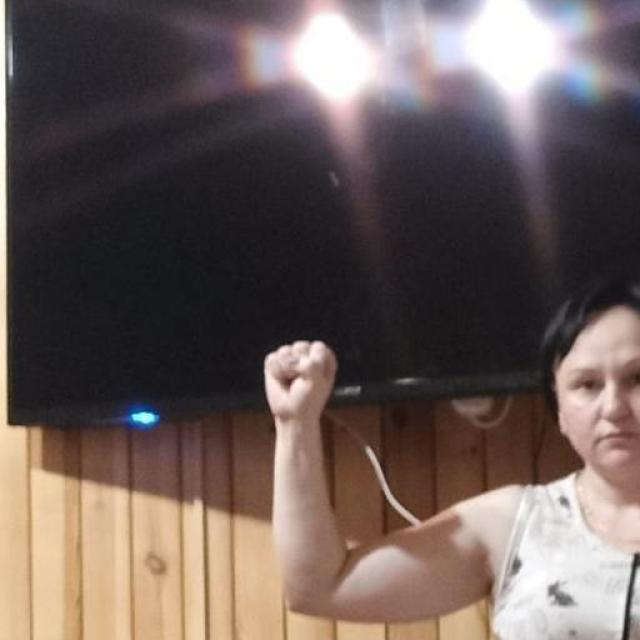hand: (264, 338, 340, 422)
